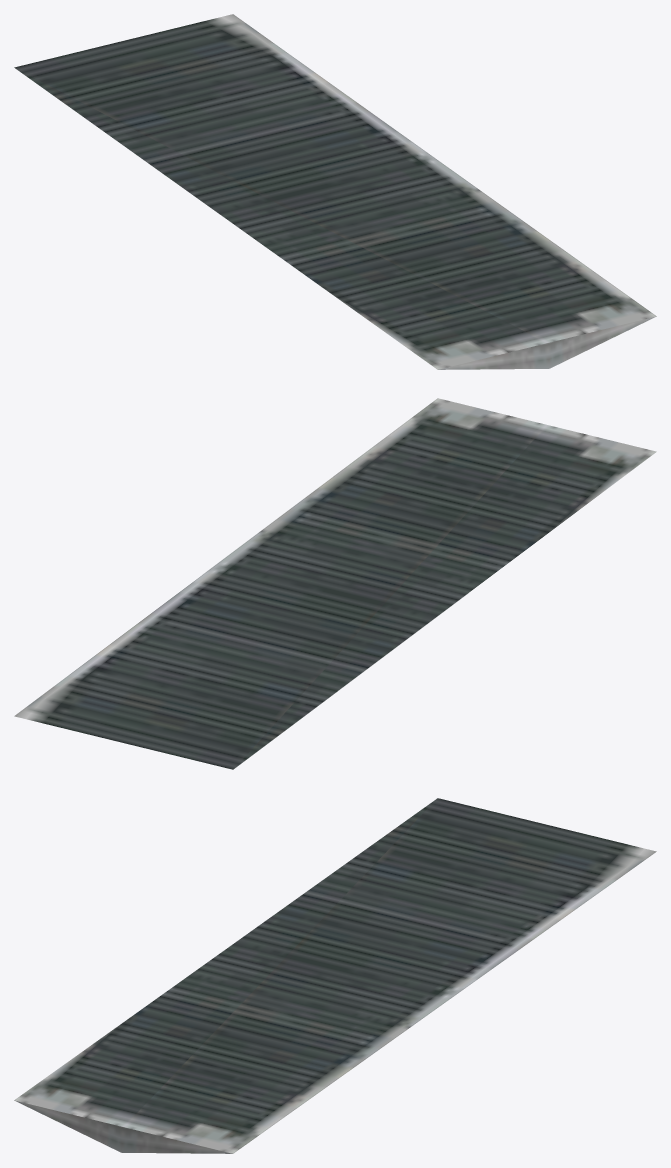
Rendered from lambda_ramp_l3.fbx.
3 renders of one model, top to bottom at view 1: azimuth 30°, elevation 25°; view 2: azimuth 150°, elevation 25°; view 3: azimuth 330°, elevation 25°, orthographic.
Visible parts, largest first — view 1: mesh_node; view 2: mesh_node; view 3: mesh_node.
Part boxes in pixels (x1,y1,x2,y2): mesh_node: [14, 14, 656, 369]; mesh_node: [14, 398, 656, 769]; mesh_node: [14, 798, 656, 1153].
Bounding box in the file's own units: 1.83 × 0.1916 × 6.15.
